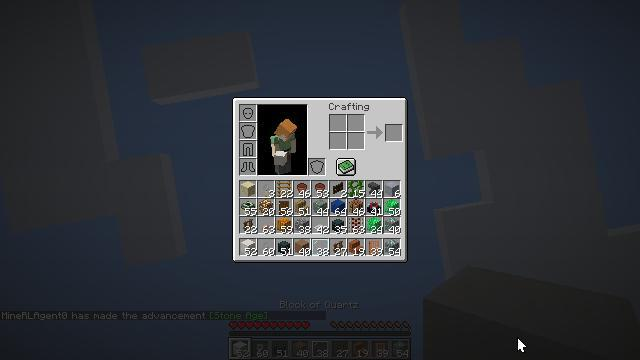cursor: (517, 337, 527, 353)
